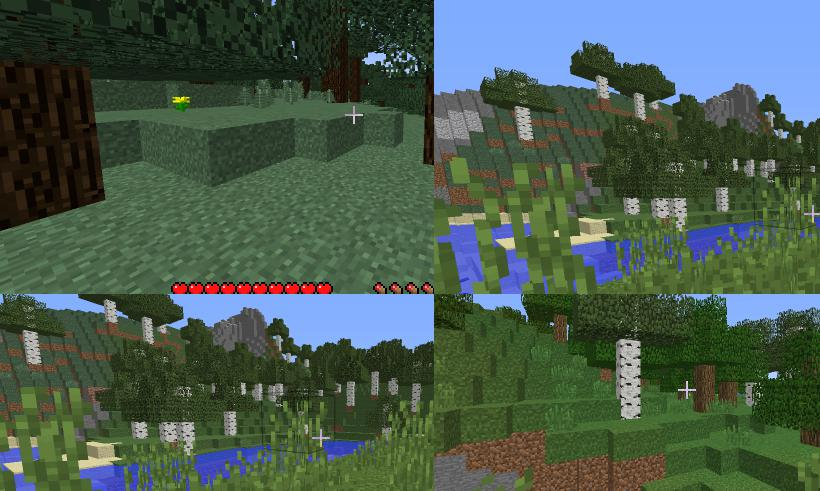minecraft-blocks: (1, 68, 102, 242), (618, 341, 642, 421), (693, 368, 717, 414), (331, 47, 347, 102), (669, 198, 687, 234), (177, 422, 195, 458), (515, 107, 534, 141), (23, 331, 42, 365), (721, 381, 737, 412), (746, 382, 761, 411), (800, 430, 820, 450), (555, 317, 569, 345), (634, 93, 647, 122), (142, 317, 155, 346), (652, 199, 670, 219), (160, 423, 178, 443), (716, 188, 730, 213), (224, 412, 238, 437), (597, 76, 611, 100), (105, 300, 119, 324), (625, 197, 641, 216), (133, 421, 149, 440), (413, 385, 421, 417), (347, 382, 355, 407), (372, 373, 379, 396), (390, 379, 399, 396), (761, 161, 768, 180), (269, 385, 276, 404), (748, 162, 755, 178), (256, 386, 263, 402), (732, 159, 739, 173), (769, 161, 776, 175), (240, 383, 247, 397), (277, 385, 284, 399)
